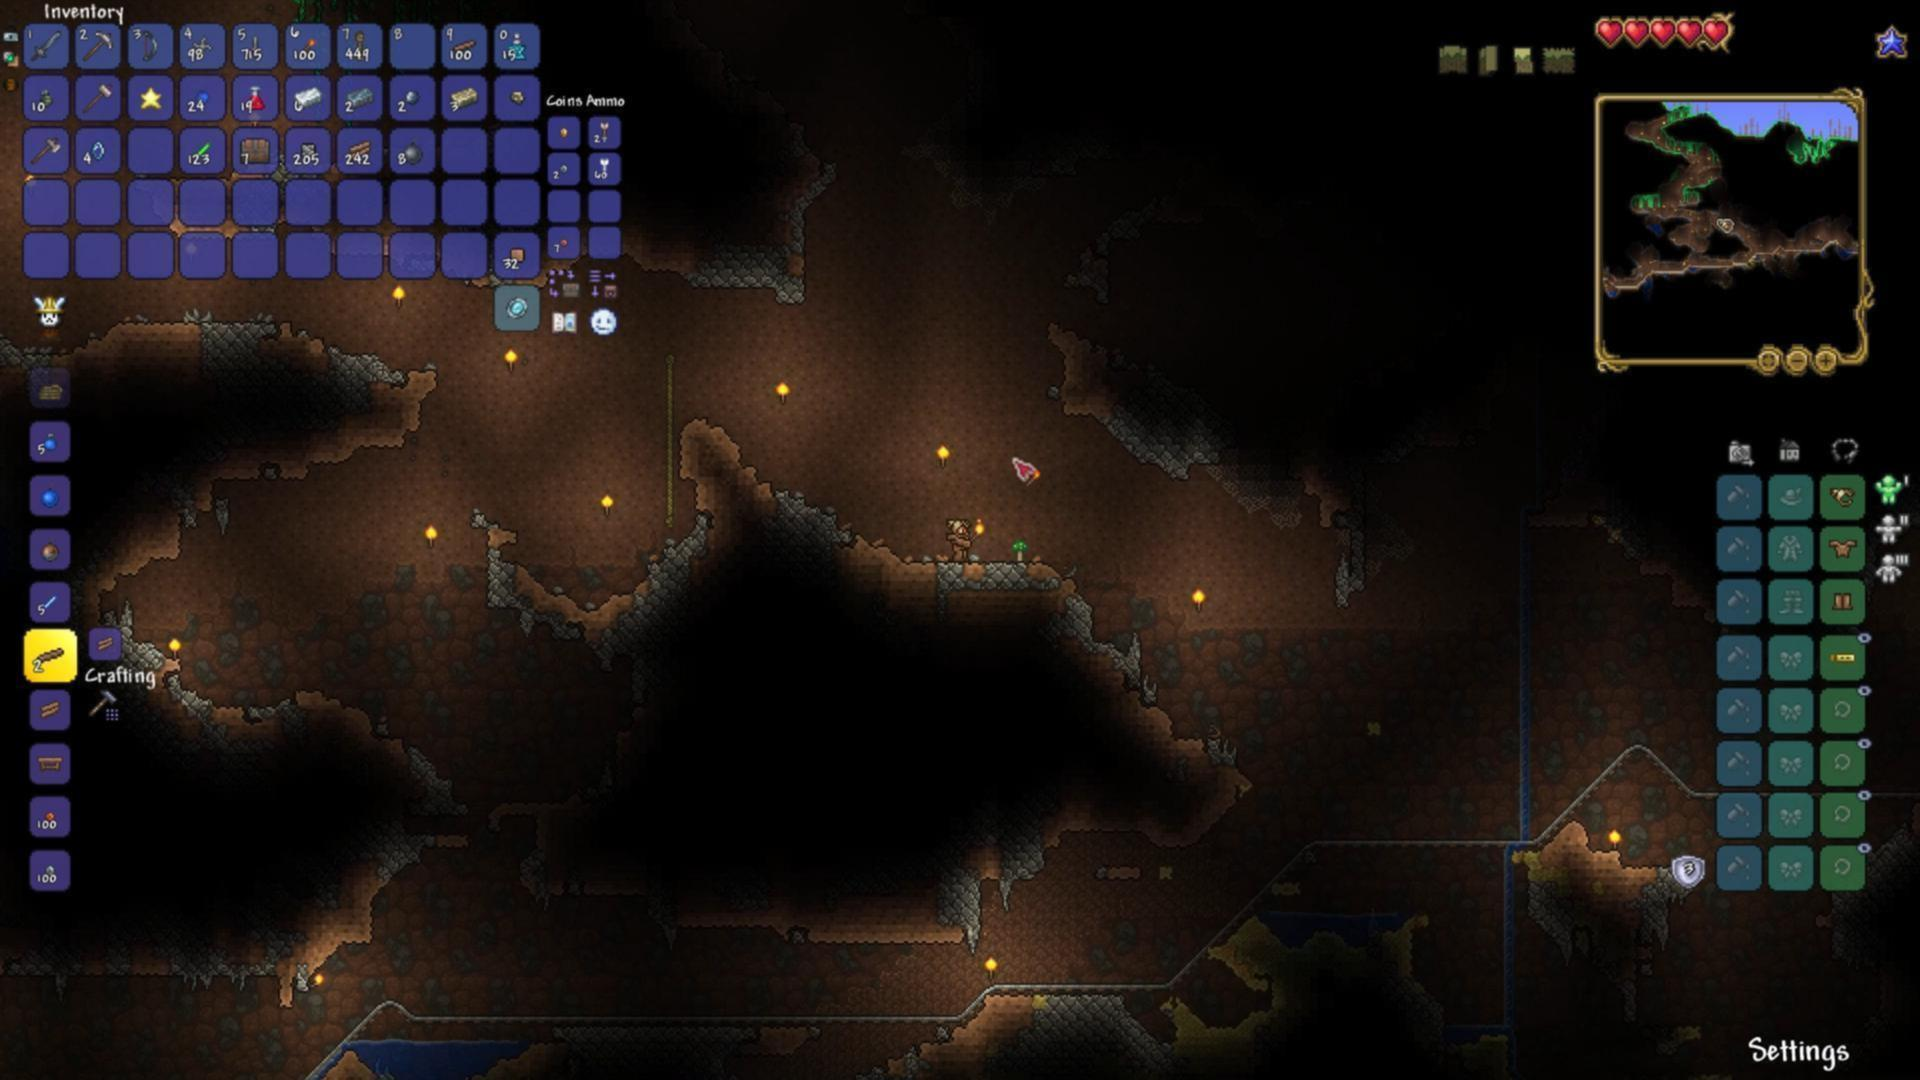bomb: (401, 140, 425, 166)
bow: (142, 28, 160, 63)
breastplate: (1828, 538, 1858, 559)
gel: (193, 86, 212, 105)
glowstick: (189, 140, 211, 160)
grenade: (37, 87, 51, 108)
helmet: (1832, 487, 1857, 505)
knife: (251, 32, 260, 55)
legs: (1829, 589, 1858, 615)
lens: (88, 137, 109, 164)
ore: (400, 84, 423, 105), (508, 87, 527, 108)
pickaxe: (82, 30, 117, 62)
recallP: (506, 33, 527, 62)
rope: (355, 28, 368, 57)
shuriken: (193, 36, 212, 58)
sword: (30, 28, 62, 63)
wood: (96, 633, 117, 653)
